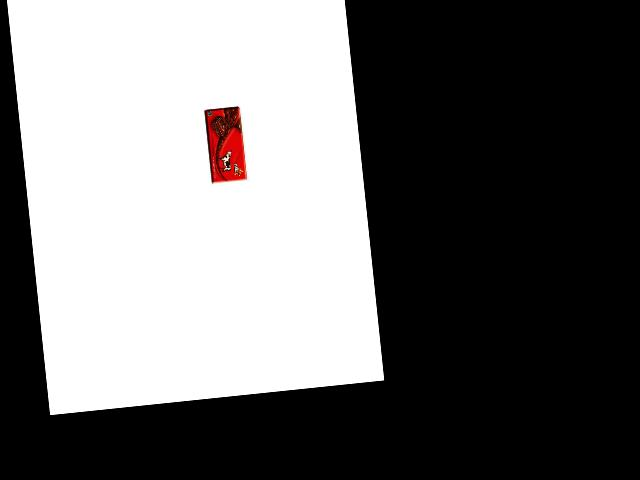chocolate: (200, 104, 248, 186)
